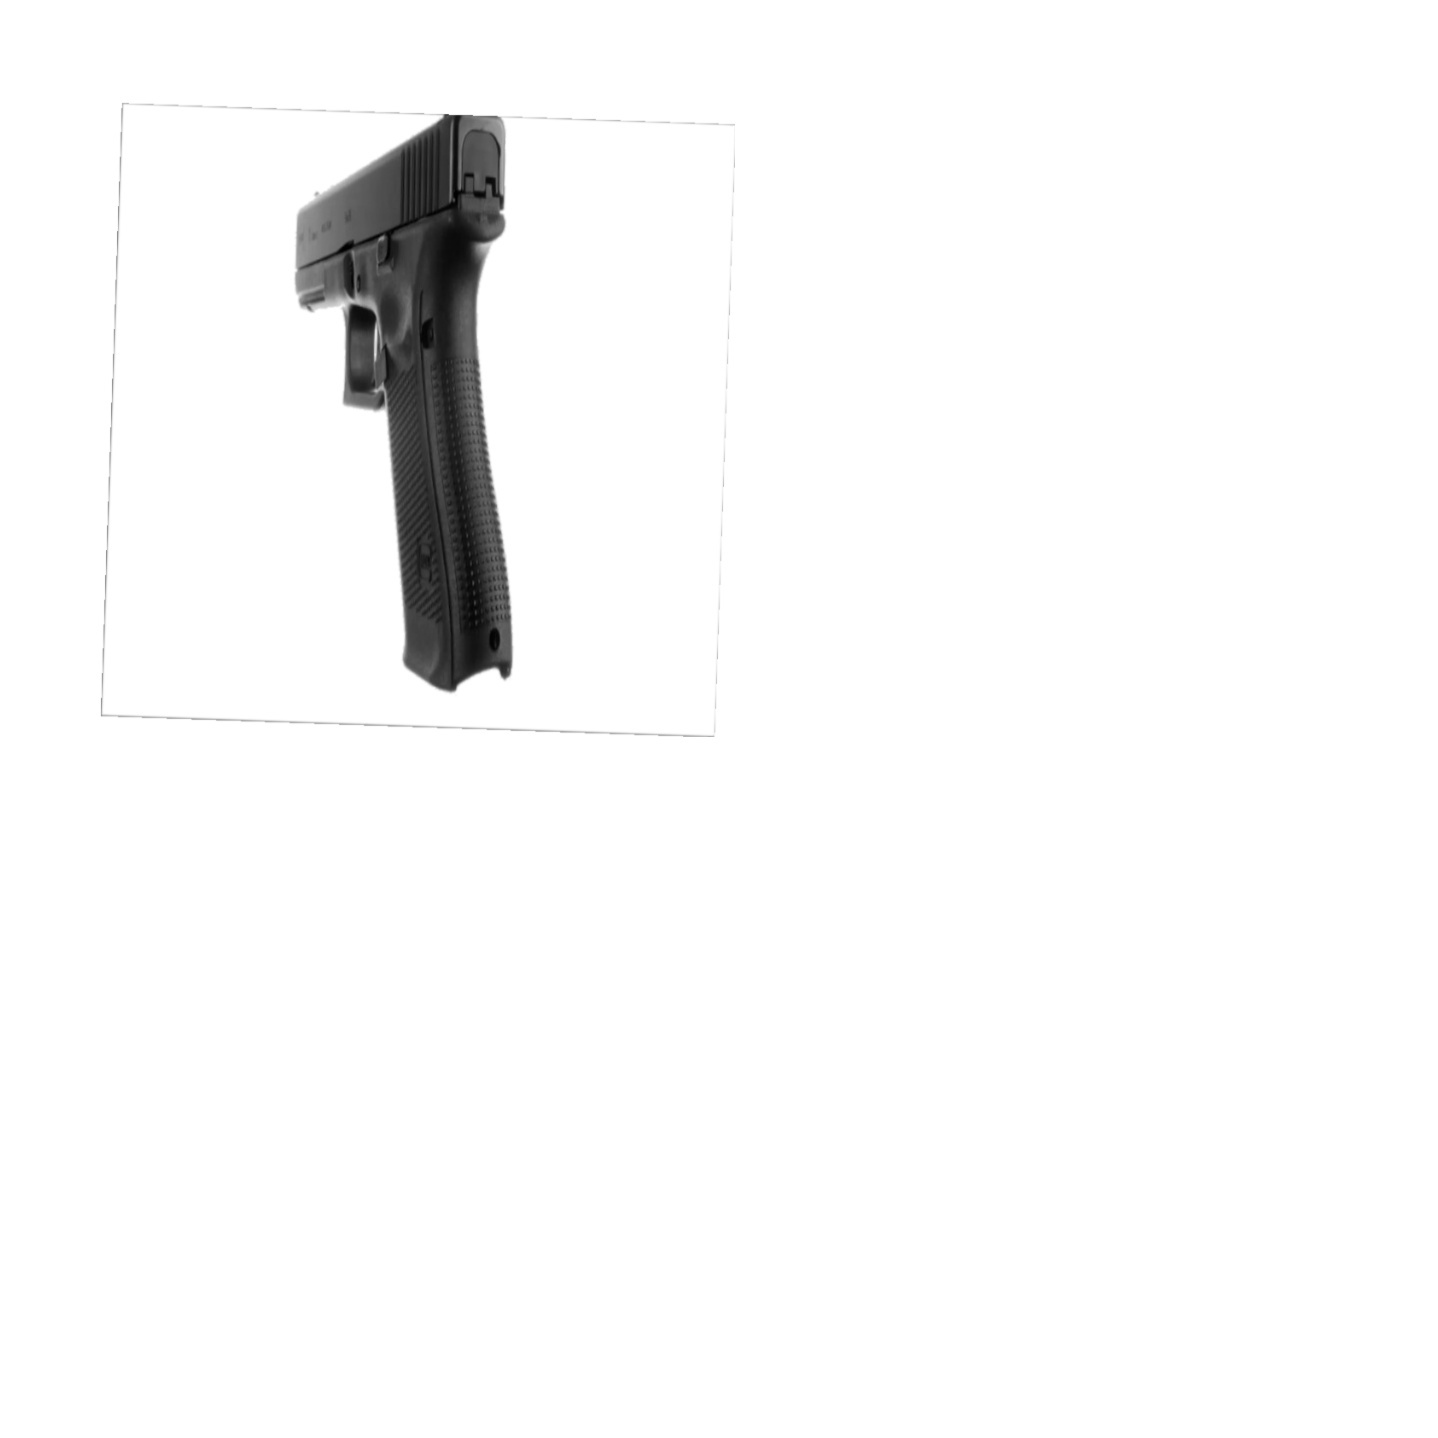gun: (283, 115, 565, 699)
